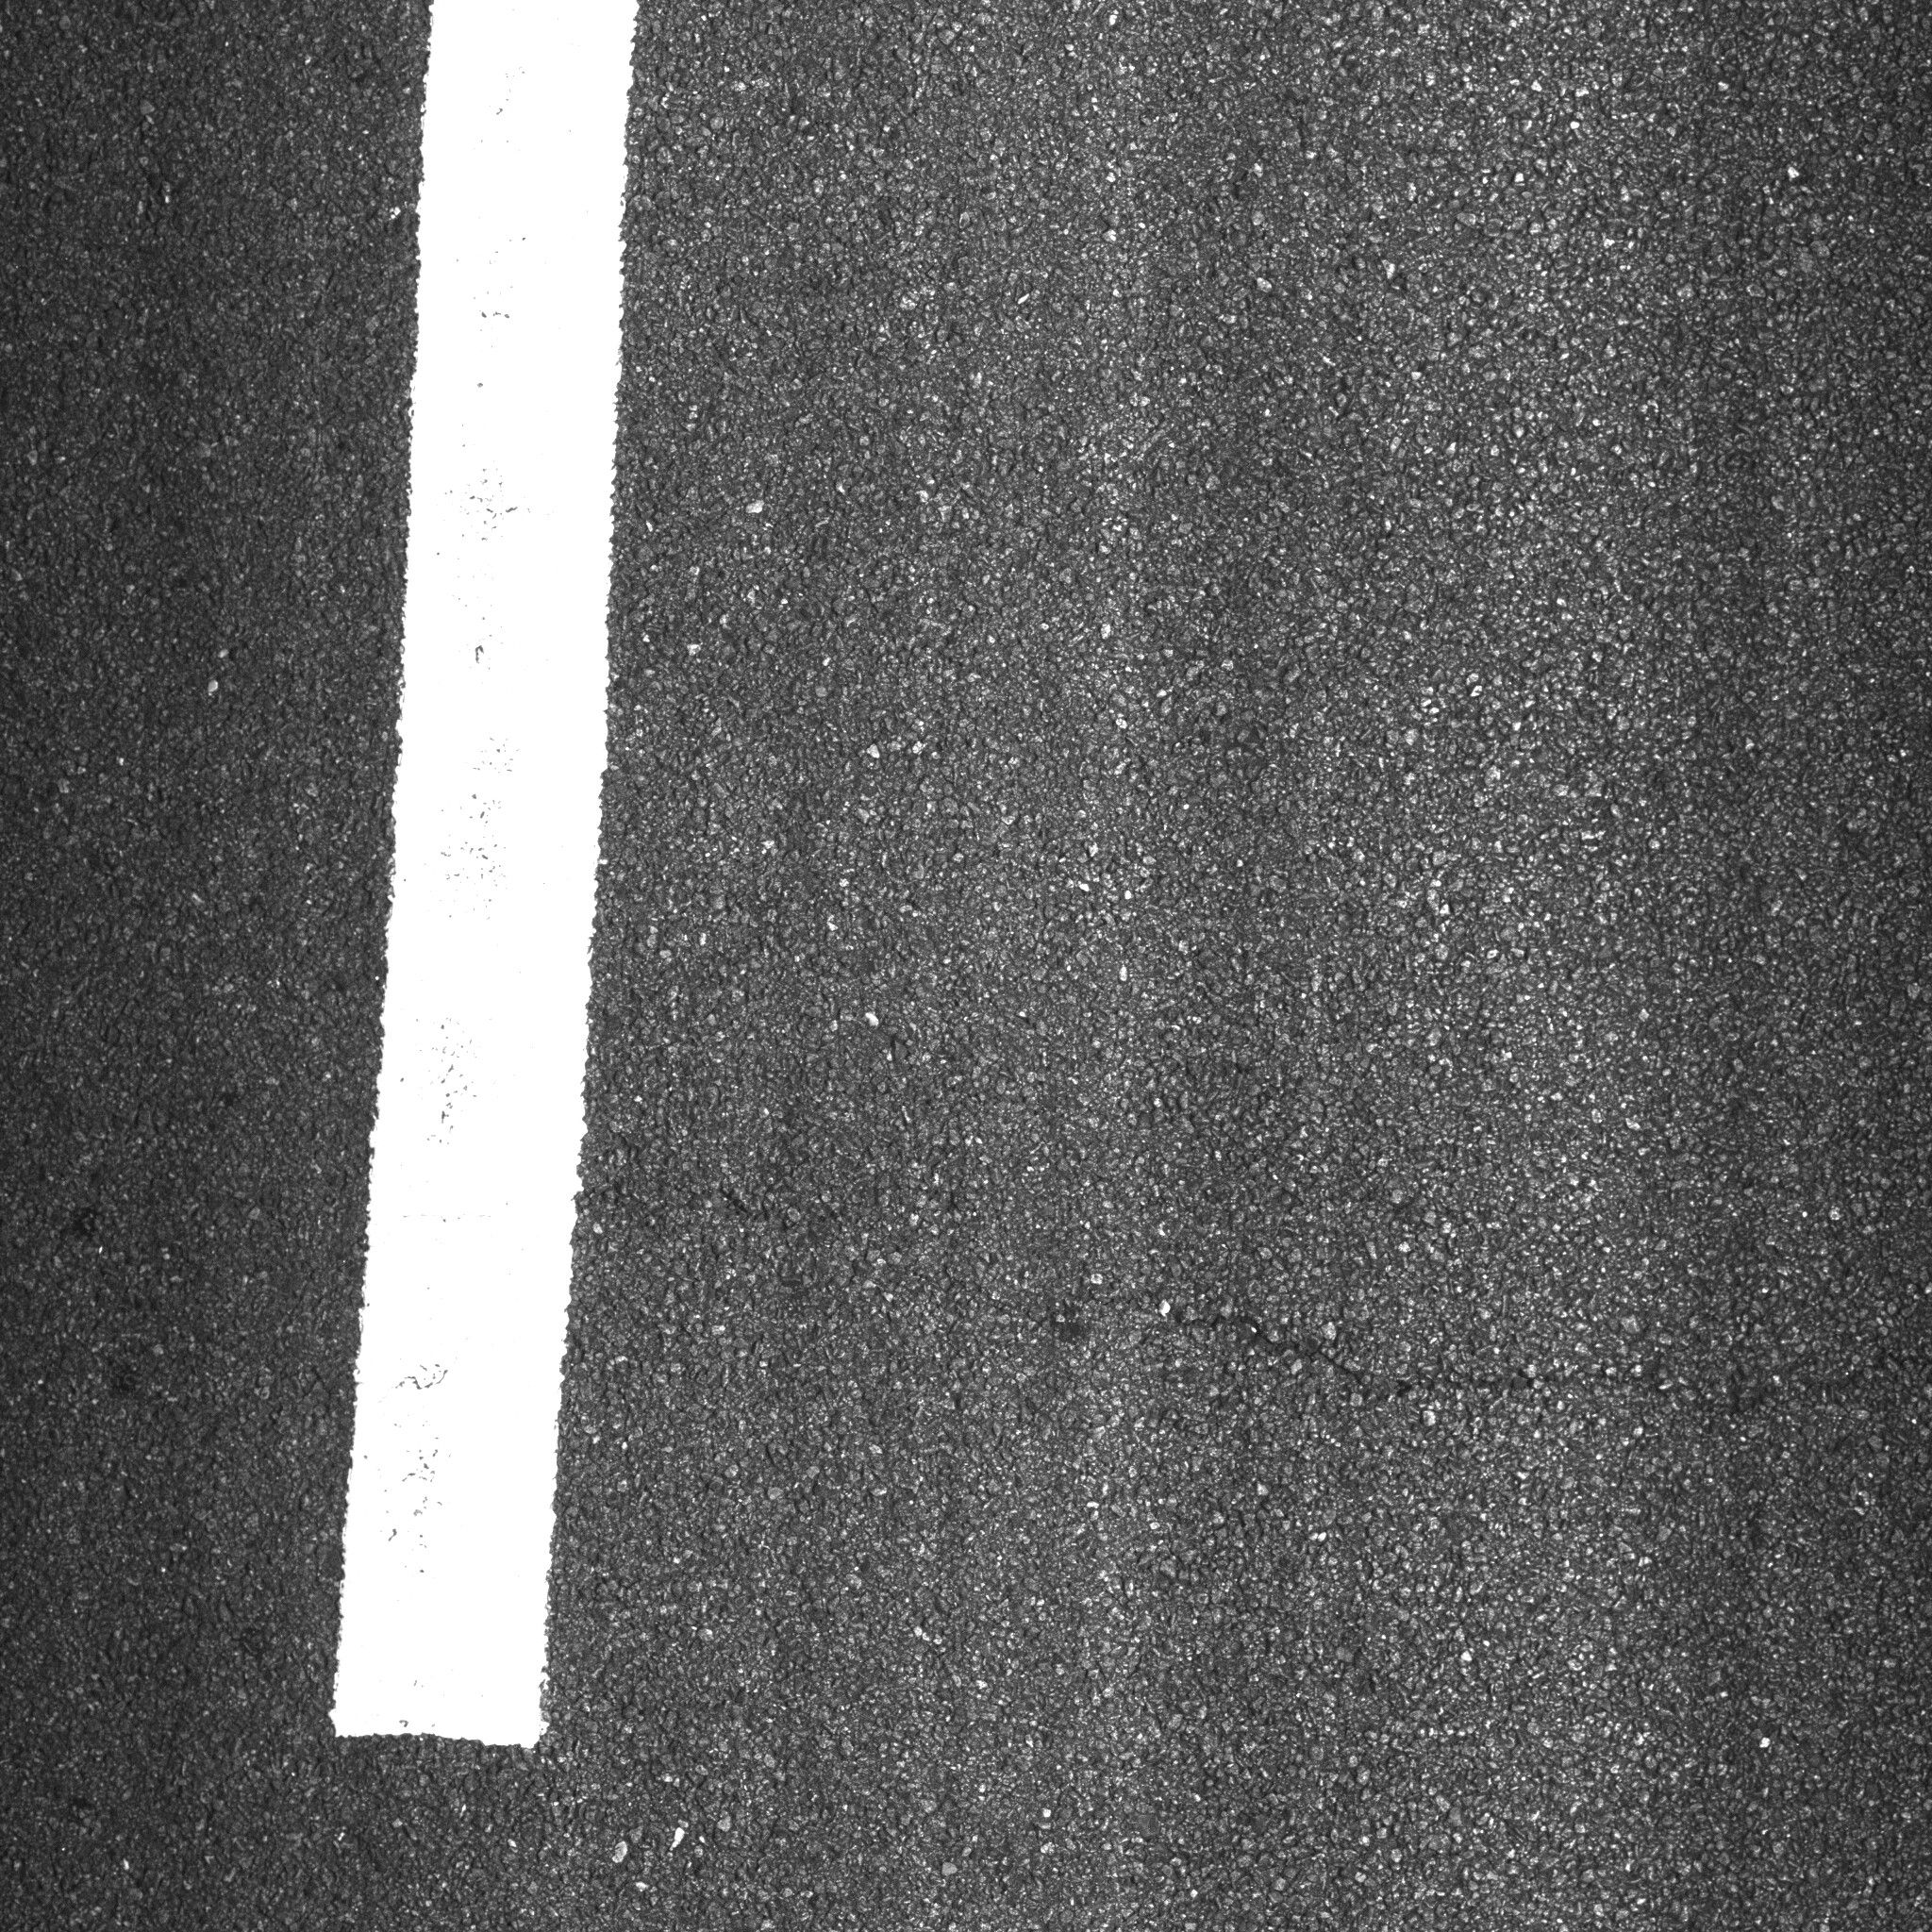transeverse: (1054, 1249, 1932, 1442)
